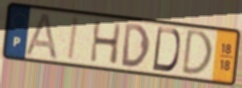A: (24, 11, 59, 61)
D: (180, 28, 214, 77), (150, 26, 182, 74), (120, 22, 151, 69)
H: (88, 19, 124, 66)
I: (66, 16, 81, 63)
